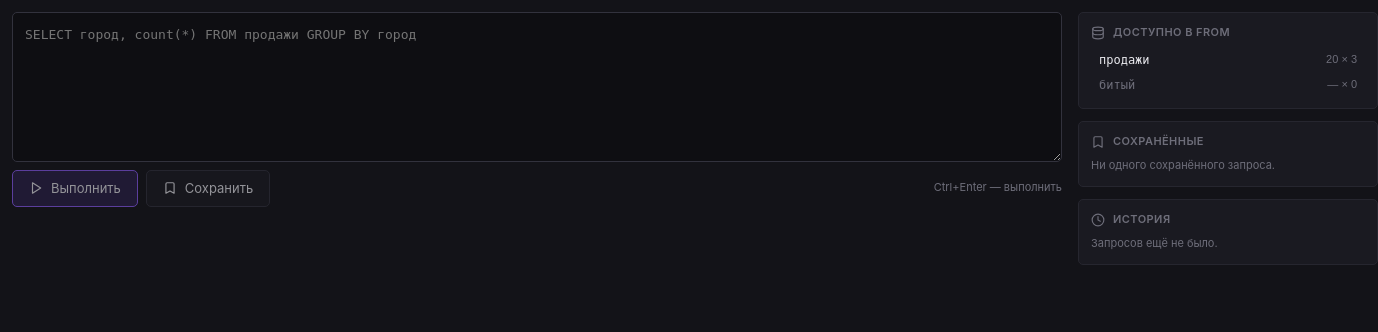
Scenario: окно SQL › ошибка показывается, а прежний результат убирается
This screenshot has width=1378, height=332.
In the text box named "Текст SQL-запроса": (537, 87) [12,12,1062,162], type "SELECT 1 FROM продажи"
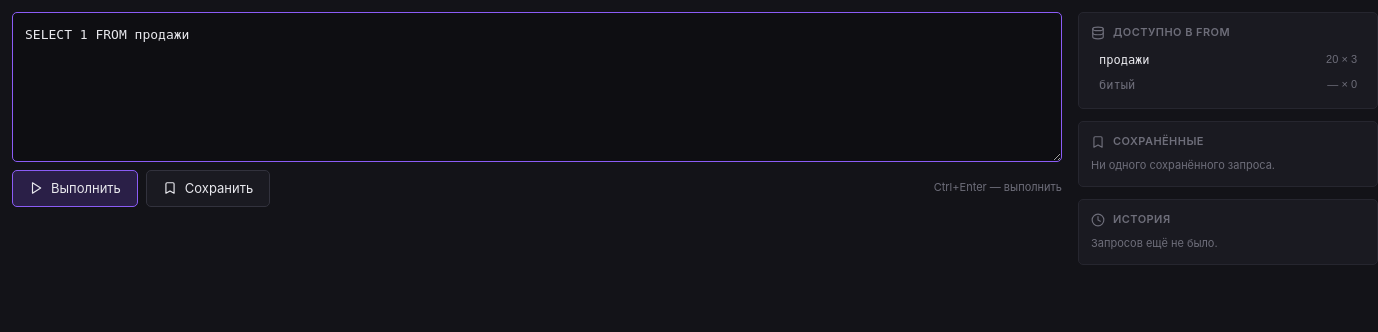
Click the button "Выполнить": click(75, 188) [12,170,138,207]
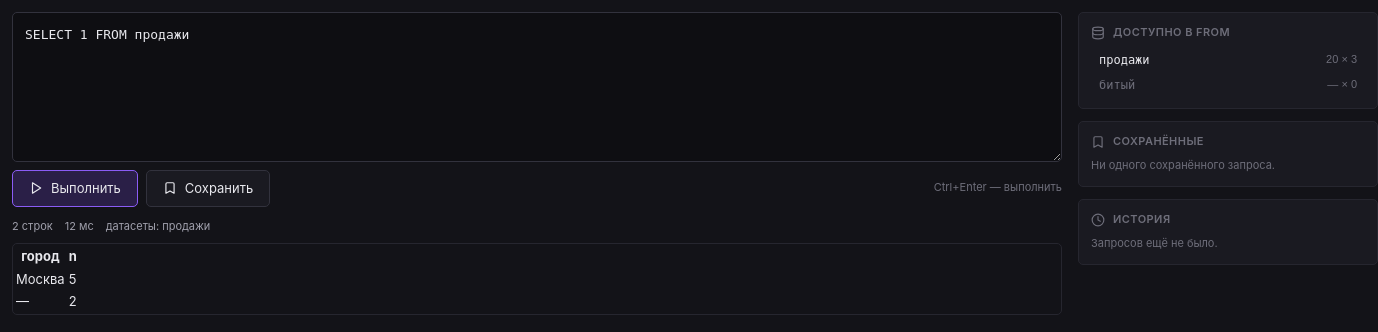
Check: the text "Москва" is shown, box [15,269,66,289]
Replace the text in the text box named "Текст SQL-запроса" with "SELECT version() FROM продажи": (537, 87) [12,12,1062,162]
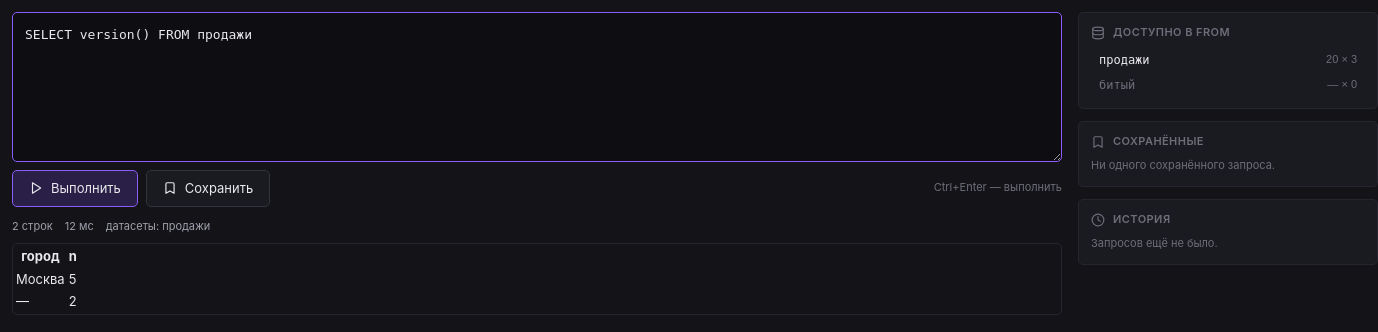
Click the button "Выполнить": click(75, 188) [12,170,138,207]
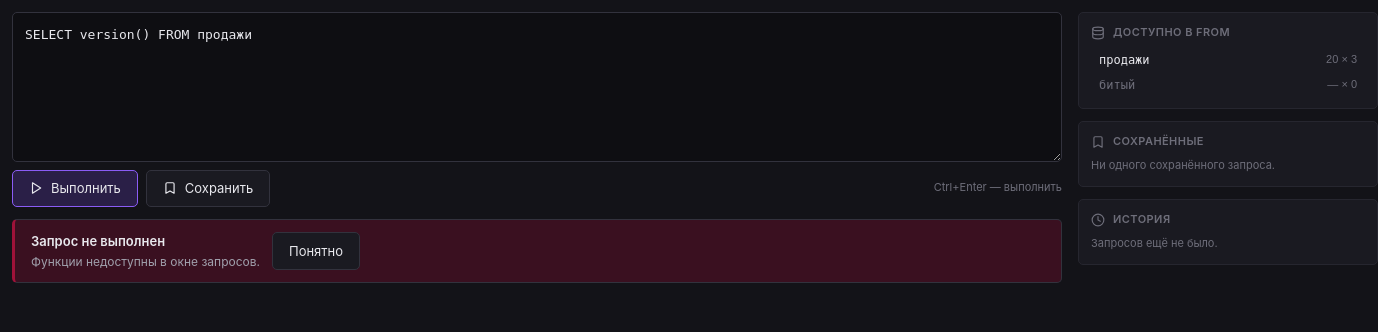
Check: the text "Функции недоступны в окне запросов." is shown, box [31,253,260,270]
Check: the text "Москва" is gone
